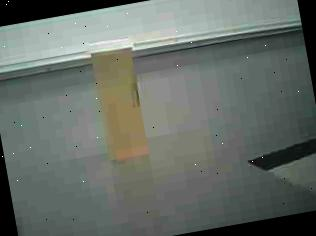Bottle A: (76, 24, 170, 188)
